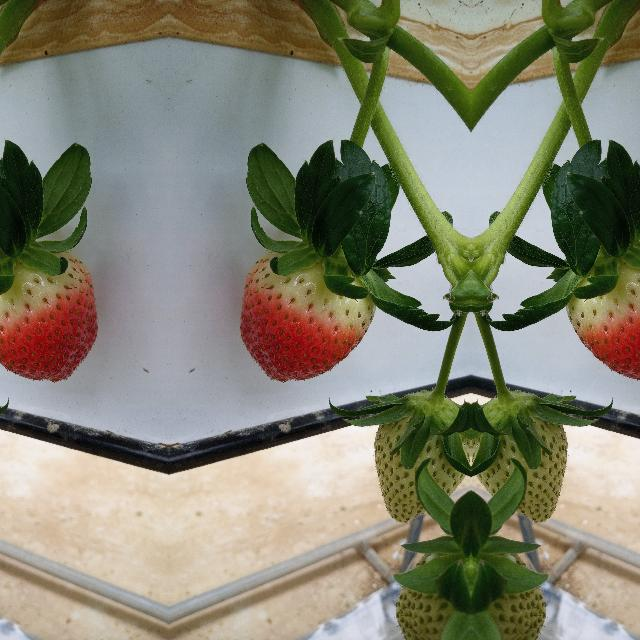Health_25: (368, 388, 466, 518), (476, 388, 572, 518)
Health_75: (238, 250, 376, 382), (0, 249, 98, 382), (565, 249, 640, 382)
